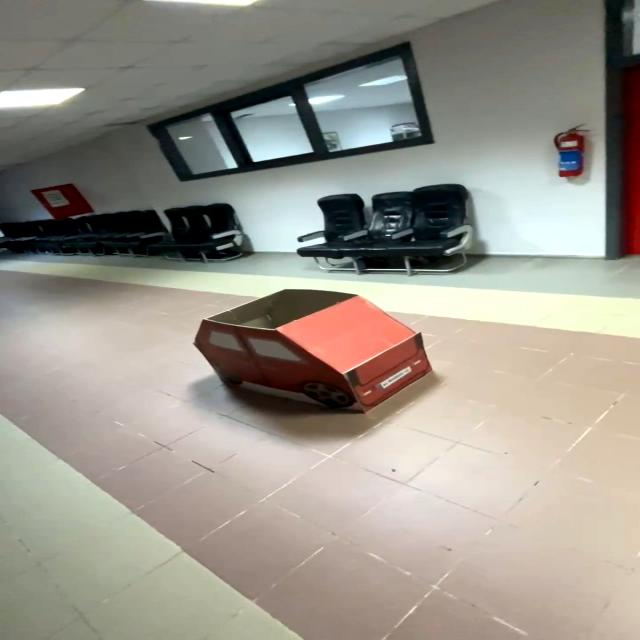red_car: (180, 276, 459, 422)
